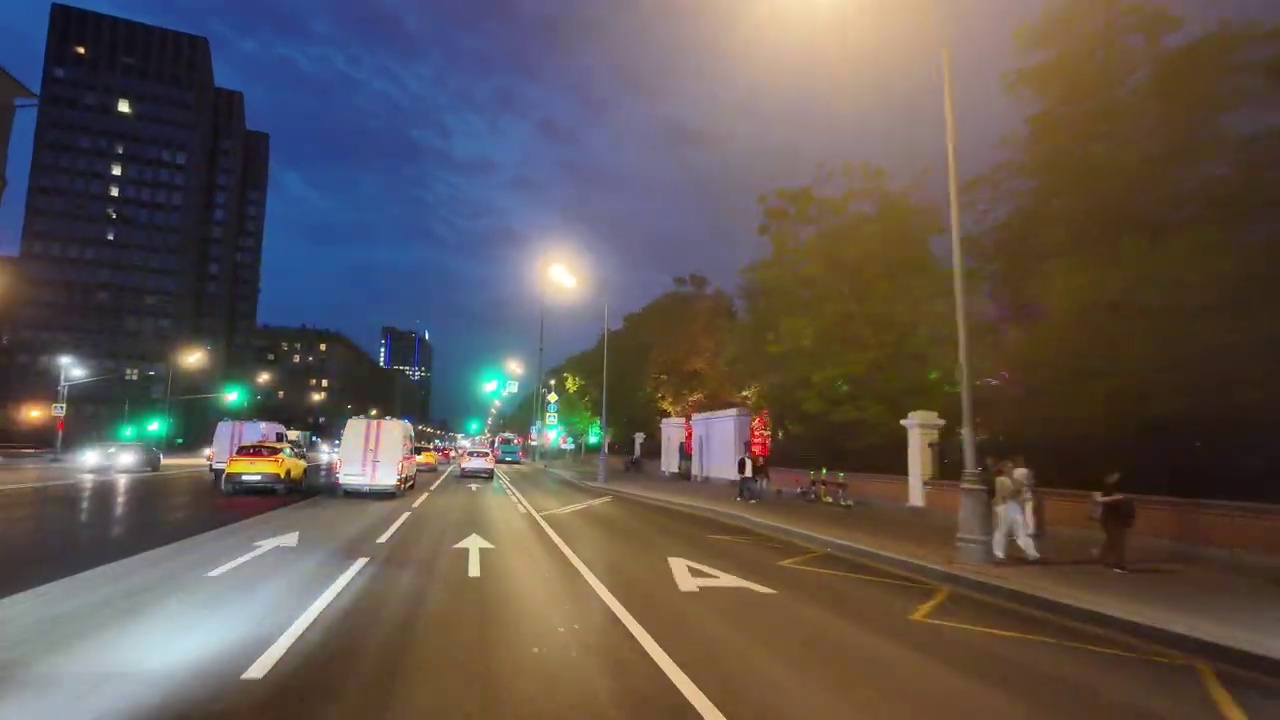acesa: (540, 252, 586, 300), (17, 401, 54, 428), (175, 344, 207, 373), (58, 354, 89, 382), (504, 357, 526, 378), (1, 267, 11, 306)
